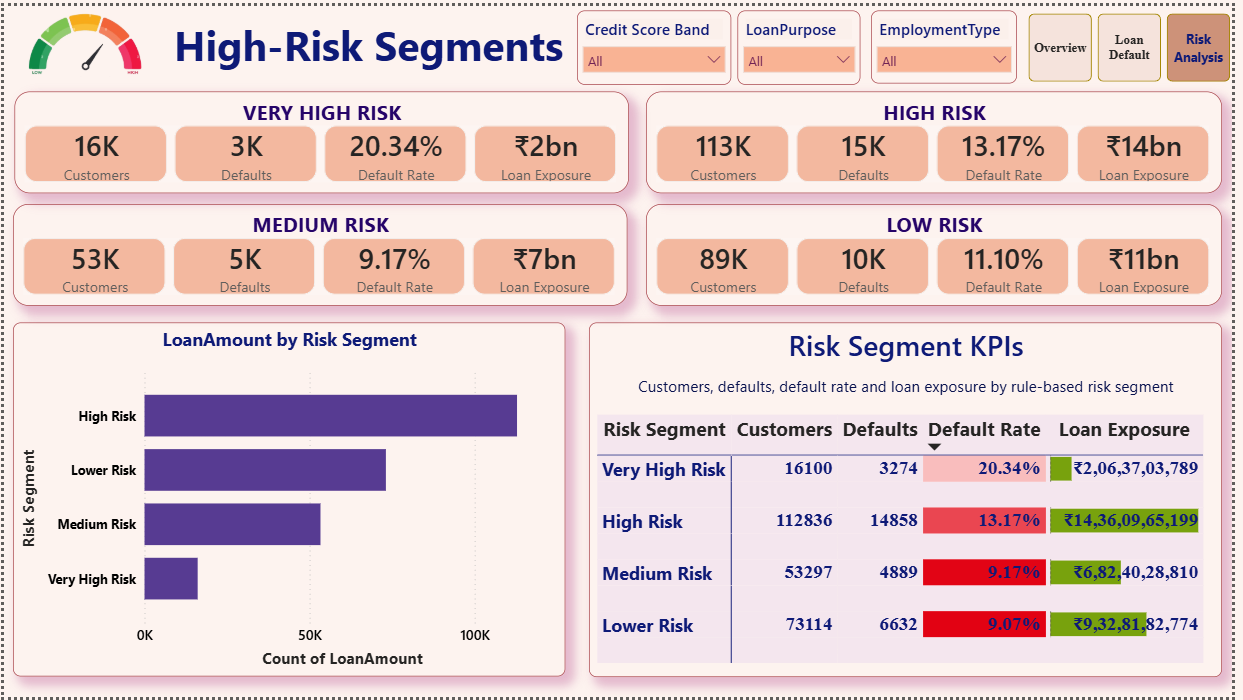

The page's visual inventory and layout, read from the dashboard file:
{"tool":"powerbi","page":{"name":"Risk Analysis","canvas":[1280,720],"ordinal":2},"visuals":[{"type":"clusteredBarChart","title":"LoanAmount by Risk Segment","fields":{"Category":["loan_data.Risk Segment"],"Y":["CountNonNull(loan_data.LoanAmount)"]},"box":[10,330,575,368.3],"z":0},{"type":"pivotTable","title":"Risk Segment KPIs","fields":{"Rows":["loan_data.Risk Segment"],"Values":["loan_data.Total Customers","loan_data.Total Defaults","loan_data.Default Rate","loan_data.Total Loan Amount"]},"box":[609.9,329.6,659.2,369],"z":1000},{"type":"cardVisual","title":"VERY HIGH RISK","fields":{"Data":["loan_data.Total Customers","loan_data.Total Defaults","loan_data.Default Rate","loan_data.Total Loan Amount"]},"box":[10.4,88.6,640,105.7],"z":2000},{"type":"cardVisual","title":"HIGH RISK","fields":{"Data":["loan_data.Total Customers","loan_data.Total Defaults","loan_data.Default Rate","loan_data.Total Loan Amount"]},"box":[669,89,600,105.7],"z":3000},{"type":"cardVisual","title":"MEDIUM RISK","fields":{"Data":["loan_data.Total Customers","loan_data.Total Defaults","loan_data.Default Rate","loan_data.Total Loan Amount"]},"box":[10,206.2,640,105.7],"z":4000},{"type":"cardVisual","title":"LOW RISK","fields":{"Data":["loan_data.Total Customers","loan_data.Total Defaults","loan_data.Default Rate","loan_data.Total Loan Amount"]},"box":[668.5,206.2,600,105.7],"z":5000},{"type":"textbox","box":[159.2,5.6,440.8,74.6],"z":6000},{"type":"image","box":[9.9,5.6,152.1,67.6],"z":7000},{"type":"pageNavigator","box":[1067.3,8.5,212.7,71.8],"z":8000},{"type":"slicer","fields":{"Values":["loan_data.EmploymentType"]},"box":[902.8,4.2,152.1,76.1],"z":9000},{"type":"slicer","fields":{"Values":["loan_data.LoanPurpose"]},"box":[764.8,4.2,128.2,77.5],"z":10000},{"type":"slicer","fields":{"Values":["loan_data.Credit Score Band"]},"box":[597.2,4.2,160.6,77.5],"z":11000}]}

Visuals, with their boxes in screenshot pixels (x1, y1, x2, y2), scaled from the page's 1280x720 canvas onto the 1243x700 screenshot:
"LoanAmount by Risk Segment" clusteredBarChart: (10, 321, 568, 679)
"Risk Segment KPIs" pivotTable: (592, 320, 1232, 679)
"VERY HIGH RISK" cardVisual: (10, 86, 632, 189)
"HIGH RISK" cardVisual: (650, 87, 1232, 189)
"MEDIUM RISK" cardVisual: (10, 200, 631, 303)
"LOW RISK" cardVisual: (649, 200, 1232, 303)
textbox: (155, 5, 583, 78)
image: (10, 5, 157, 71)
pageNavigator: (1036, 8, 1242, 78)
slicer - loan_data.EmploymentType: (877, 4, 1024, 78)
slicer - loan_data.LoanPurpose: (743, 4, 867, 79)
slicer - loan_data.Credit Score Band: (580, 4, 736, 79)
